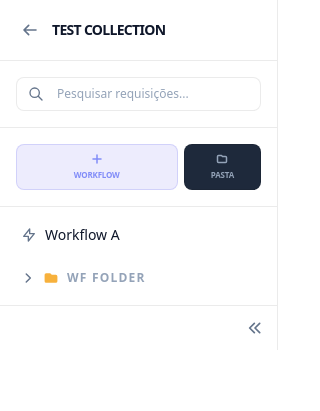
CollectionSidebar › expands workflow folder and renders nested workflows
The width and height of the screenshot is (320, 411).
Click the text "WF Folder" at (108, 278), box [67, 270, 148, 286]
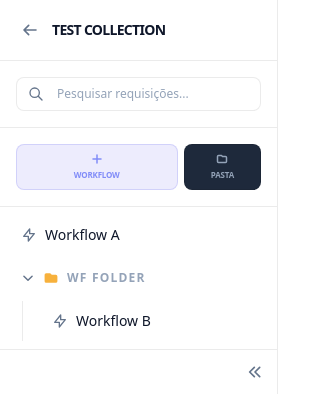
Expected: the text "Workflow B" is shown, [76, 311, 151, 331]
